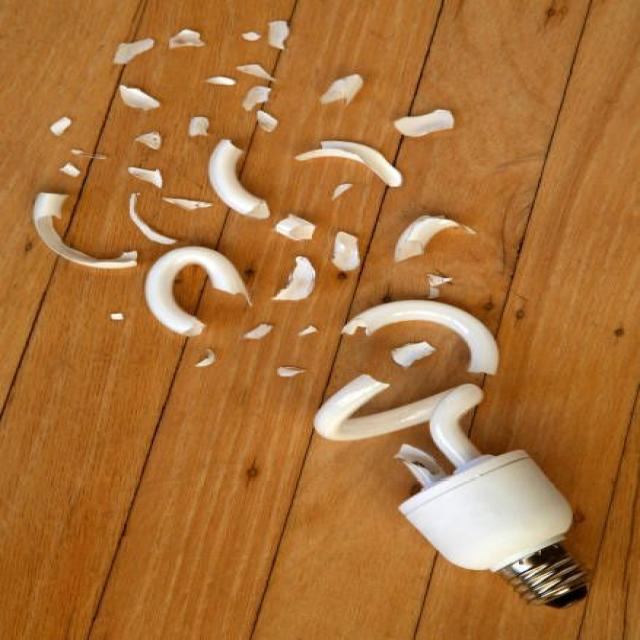electronic: (312, 298, 592, 609), (394, 441, 590, 609)
